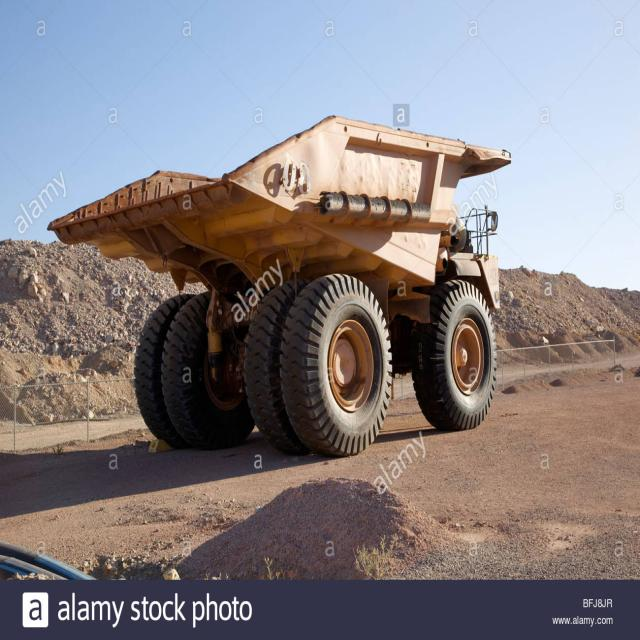dump_truck: (54, 113, 514, 453)
